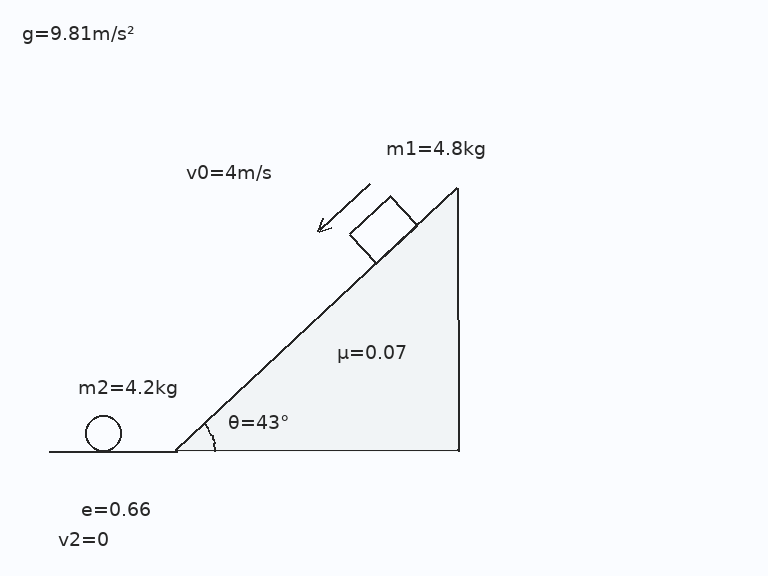ball: (83, 413, 123, 453)
block: (347, 193, 419, 265)
ramp: (173, 186, 459, 453)
